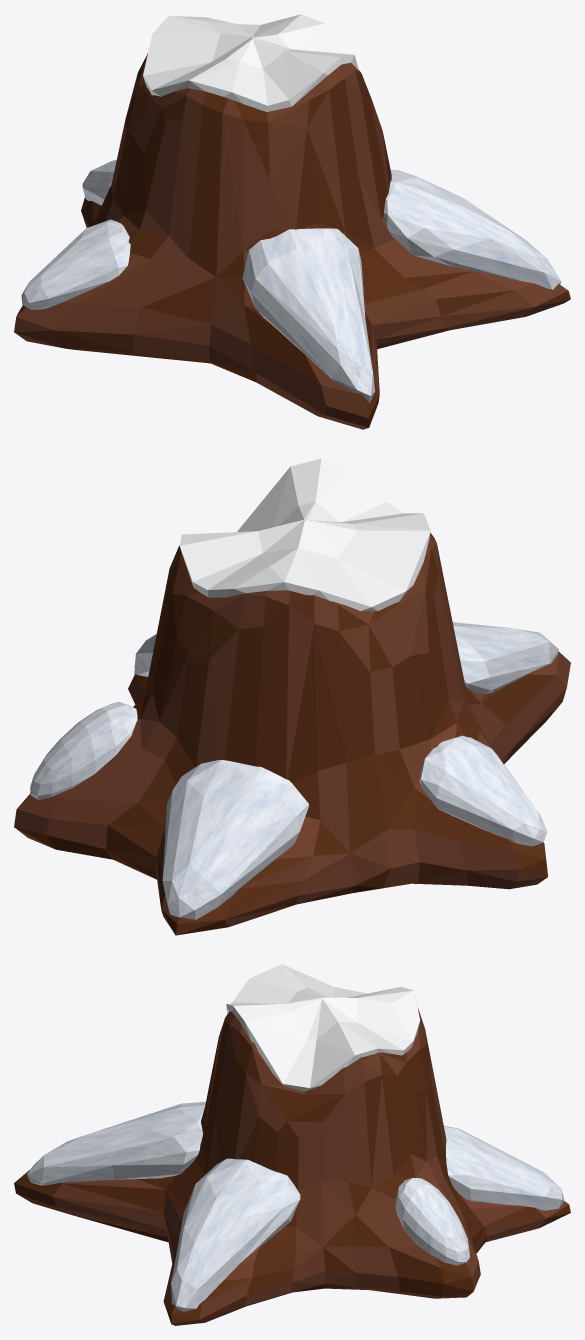
File: Baumstumpf_snow.glb
3 renders of one model, top to bottom at view 1: azimuth 30°, elevation 25°; view 2: azimuth 150°, elevation 25°; view 3: azimuth 270°, elevation 25°, orthographic. The views are drawn at different scales.
Visible parts, largest first — view 1: Cube; view 2: Cube; view 3: Cube.
Part boxes in pixels (bbox=[...]): Cube: bbox=[14, 14, 570, 429]; Cube: bbox=[14, 458, 570, 935]; Cube: bbox=[14, 964, 570, 1325].
Size of the model in its own units: 5.74 by 3.25 by 6.83.
4 materials, 1 textured.
